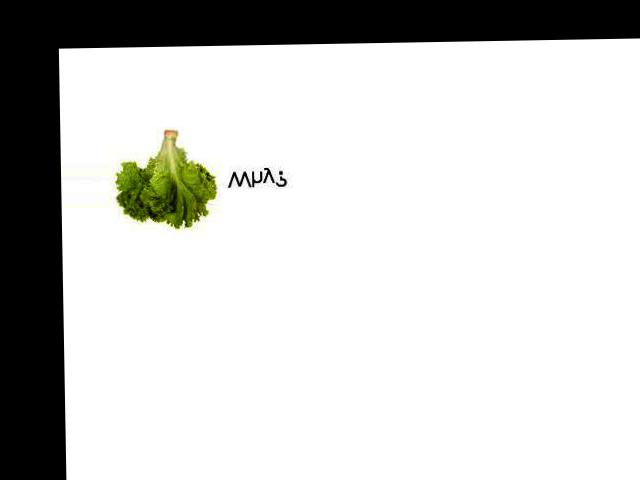lettuce: (110, 120, 274, 238)
